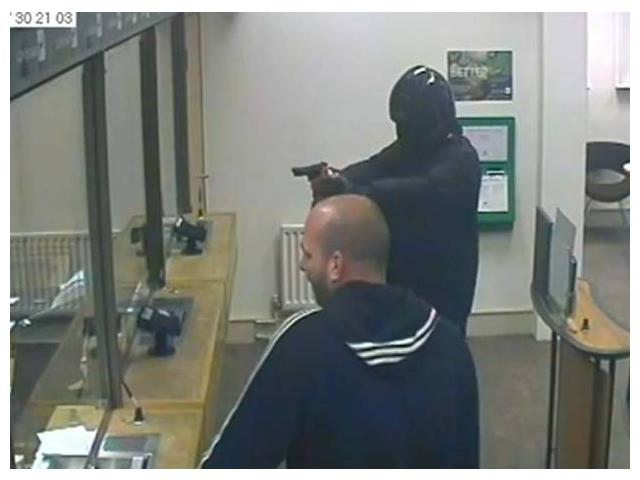pistol: (289, 162, 334, 198)
